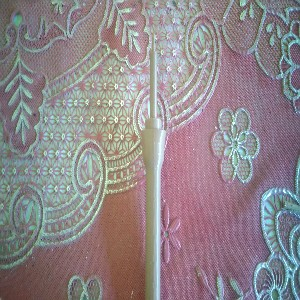solder: (138, 29, 167, 300)
